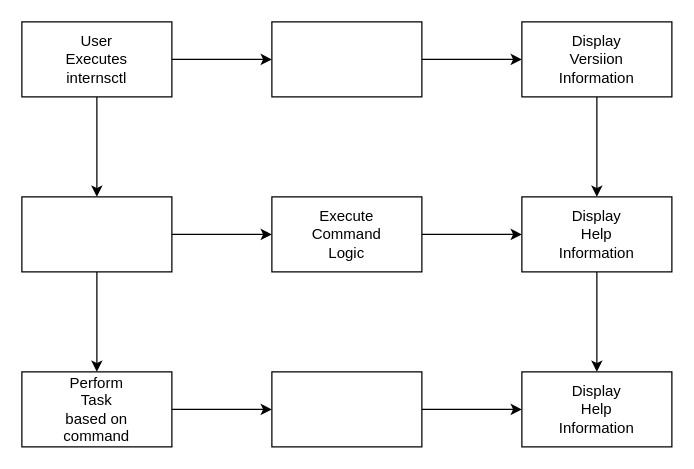
This 694x469 diagram has some shape labels left out. The shapes that lost their labels are listed below. From the top down, each one's centre as x and y in pixels, then its label:
At point (346, 59): "Parse Command and Options".
At point (96, 234): "Determine Command and Subcomand".
At point (346, 409): "Output Result or Error".
